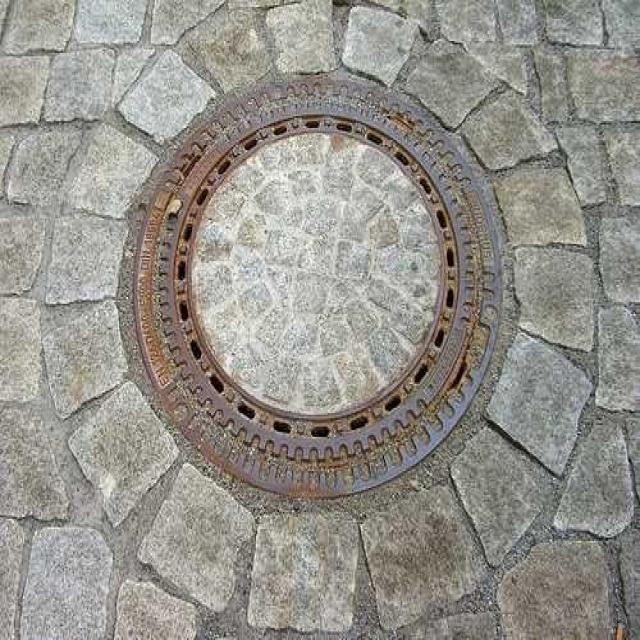manhole: (120, 78, 501, 504)
